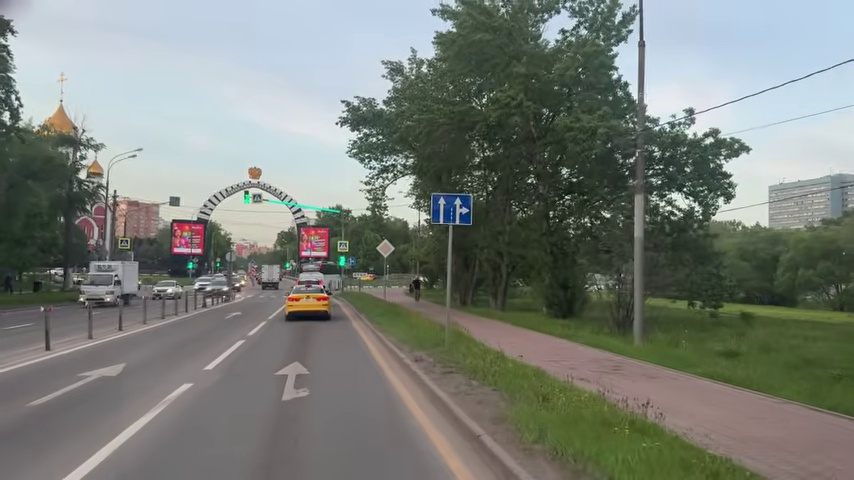apagada: (127, 147, 144, 161)
